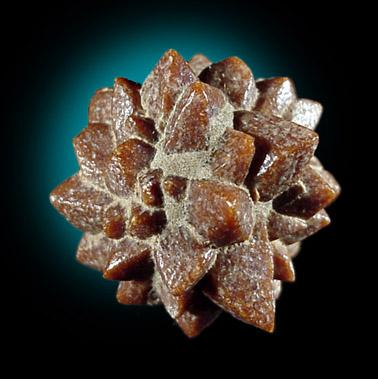calcite: (50, 50, 341, 338)
